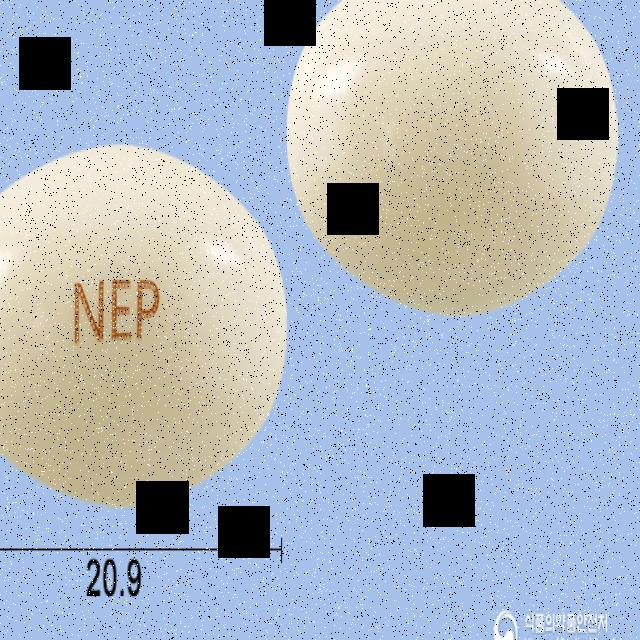Nepoxin Vaginal Soft Cap: (0, 139, 289, 506)
